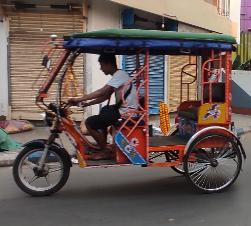Auto: (11, 28, 246, 201)
